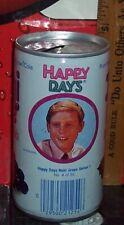metal: (13, 33, 110, 222)
